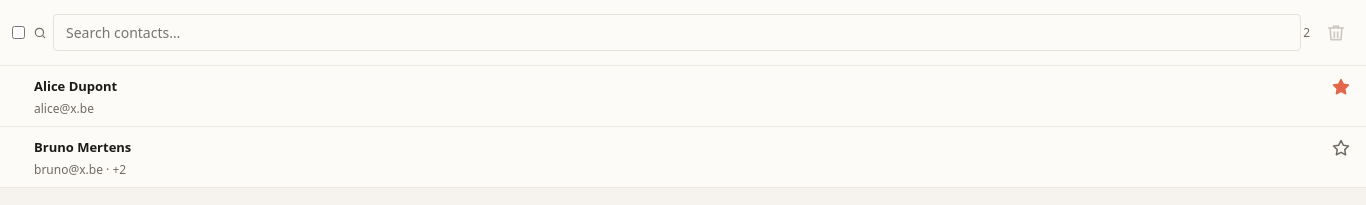
Test: ContactList › selects every filtered row from the master box
In the search field: (677, 32) [53,14,1301,51], type "alice"
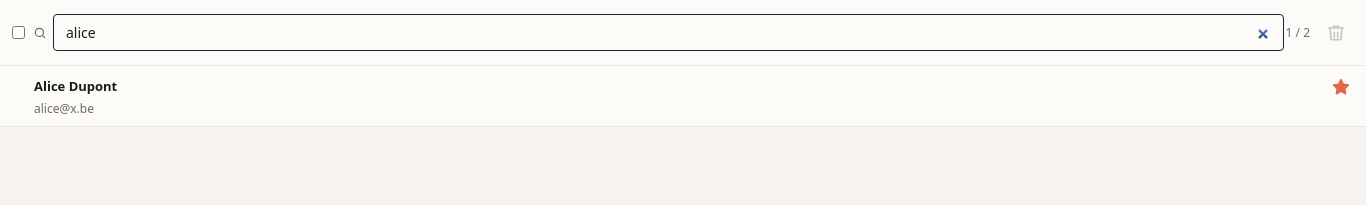
Click the checkbox named "Select all": (18, 32) [12,26,25,39]
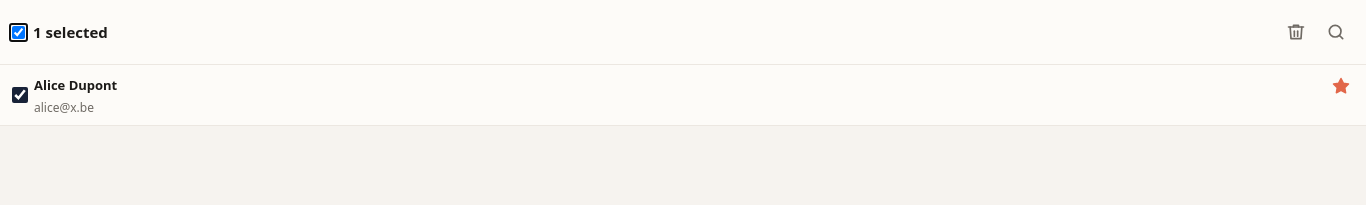
Now the text "1 selected" is shown, box [33,21,108,43]
